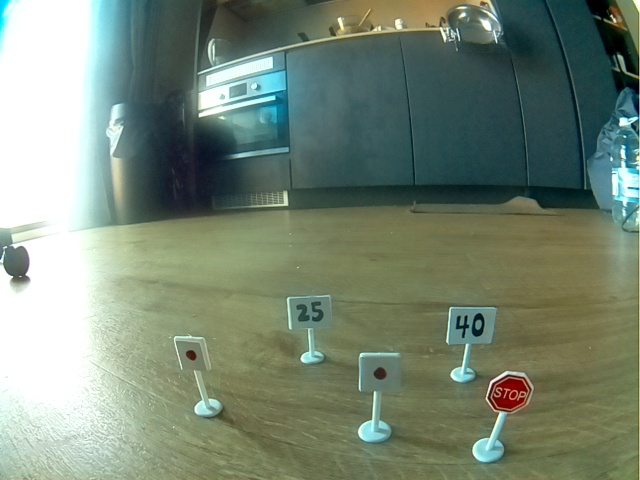red light: (362, 352, 397, 391), (177, 339, 206, 368)
speed 25: (288, 296, 331, 328)
speed 40: (452, 307, 492, 343)
stop: (484, 371, 533, 414)
